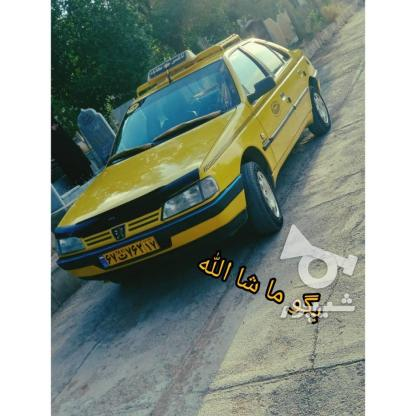car: (98, 230, 162, 274)
